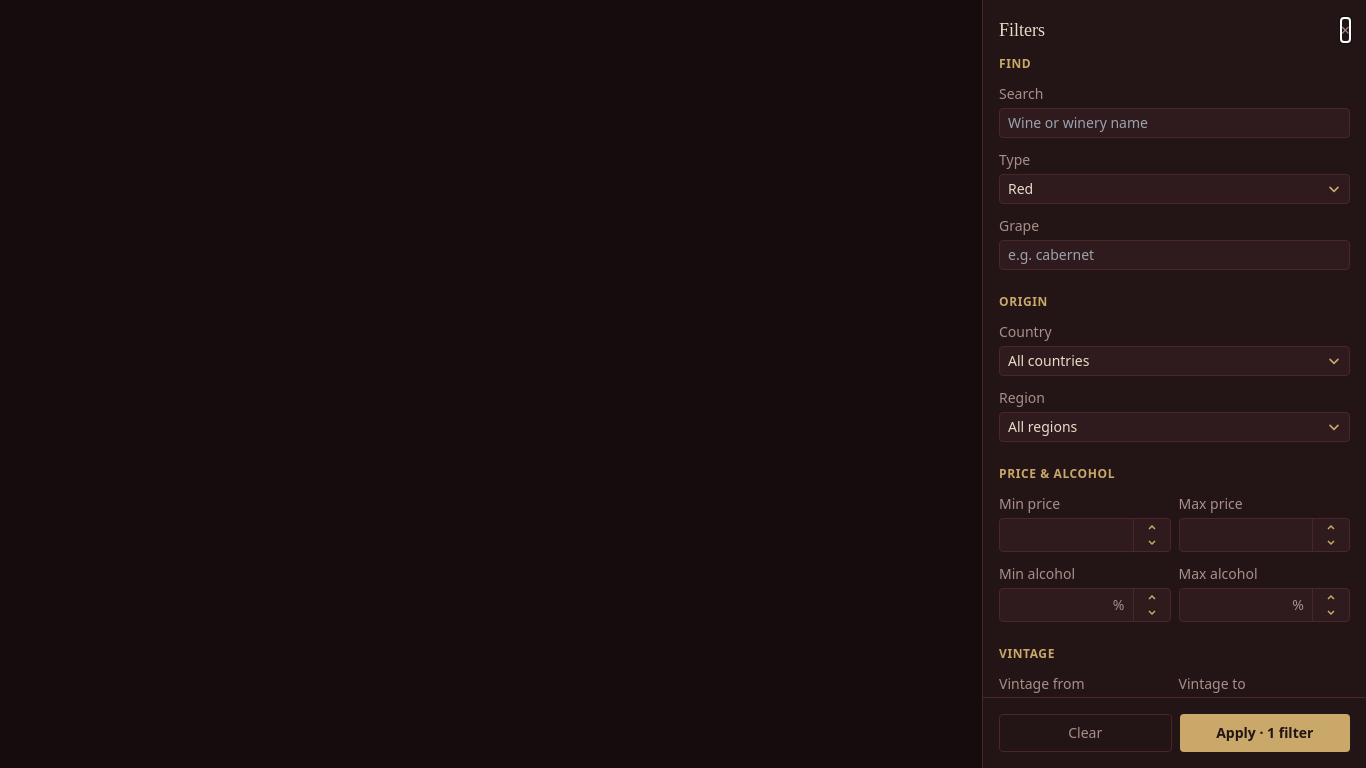
Test: FilterDrawer › resets the draft to the clear defaults when Clear is clicked
expect the dropdown labelled "Type" holds "Red": met, box [999,174,1350,204]
What coordinates should you click on to do the following:
click the button "Clear"
I would click on:
 (1085, 733)
Its box is [999,714,1172,752].
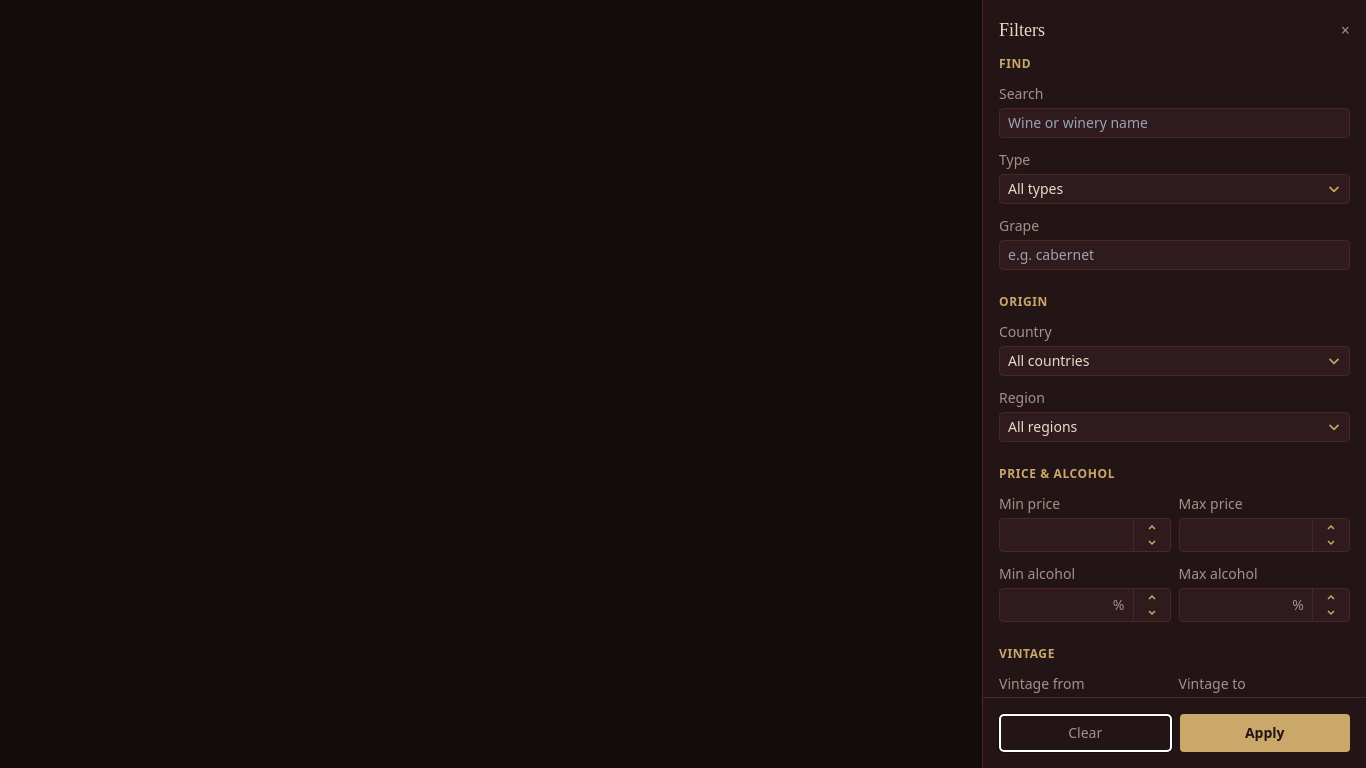
expect the dropdown labelled "Type" holds "All types": met, box [999,174,1350,204]
